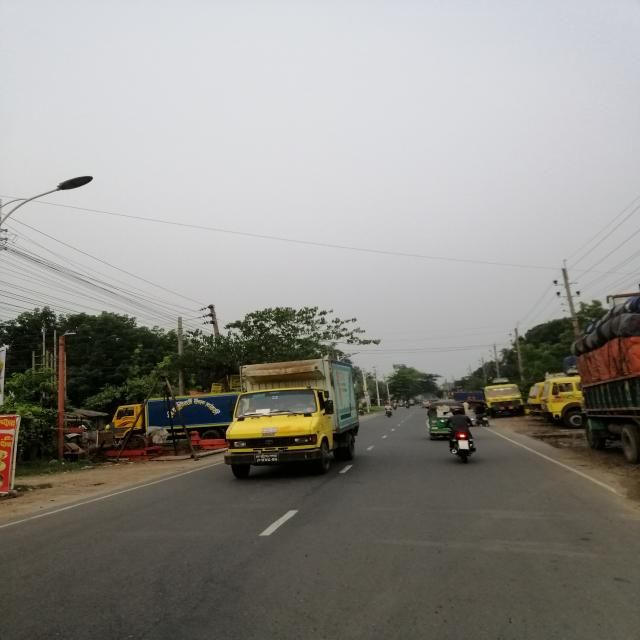Truck: (224, 360, 364, 483)
